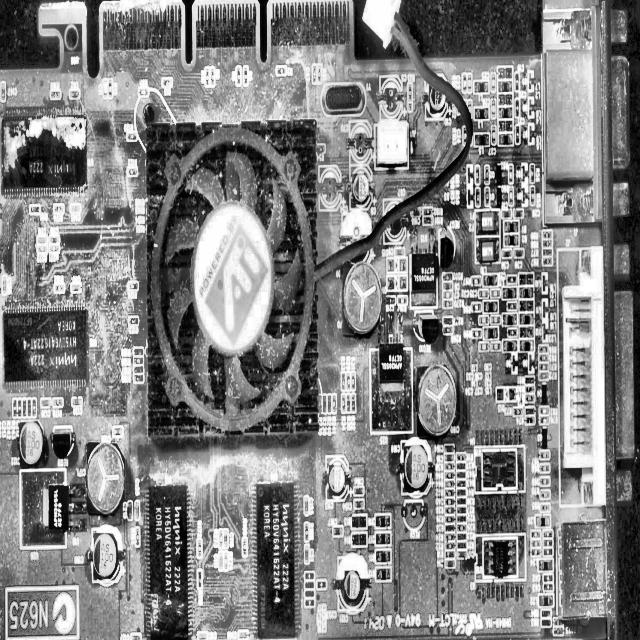PCB: (1, 1, 640, 640)
